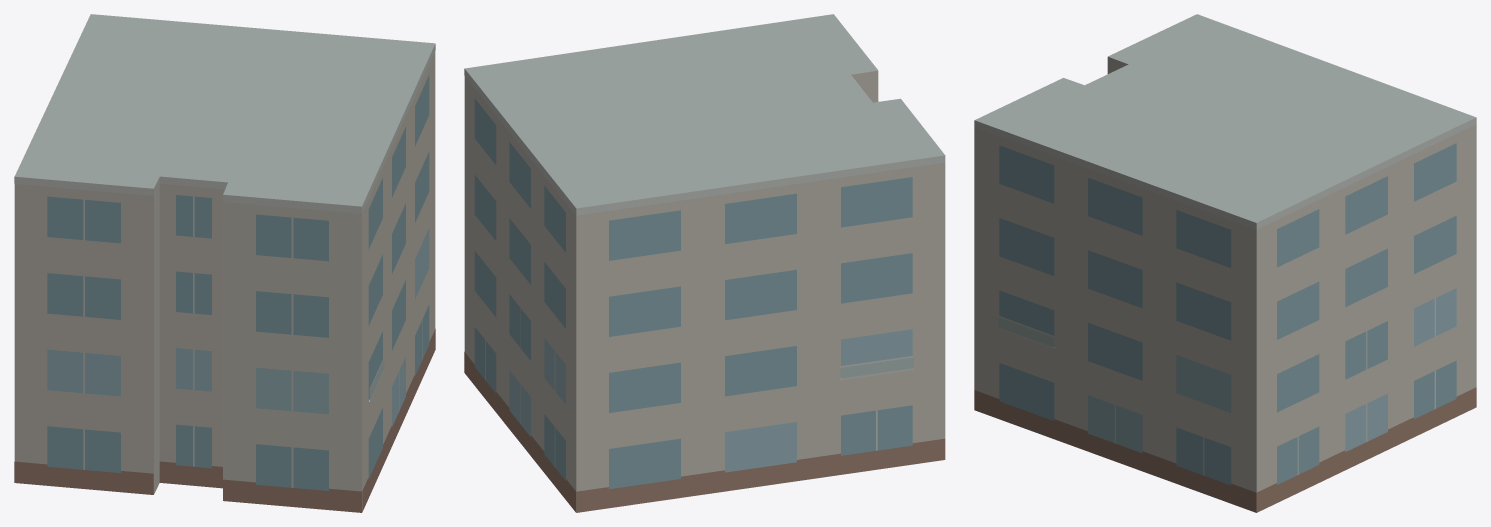
Rendered from survey-upis-32661533.glb.
3 views of the same model, side by side, from view 1: azimuth 30°, elevation 25°; view 2: azimuth 150°, elevation 25°; view 3: azimuth 270°, elevation 25° (orthographic). The views are drawn at different scales.
Visible parts, largest first — view 1: survey-upis-32661533.tmp; view 2: survey-upis-32661533.tmp; view 3: survey-upis-32661533.tmp.
Part boxes in pixels (box(x1,y1,x2,y2)): survey-upis-32661533.tmp: box(14, 14, 435, 512); survey-upis-32661533.tmp: box(464, 14, 945, 512); survey-upis-32661533.tmp: box(974, 14, 1476, 512).
Size of the model in its own units: 16.08 by 10.4 by 16.33.
